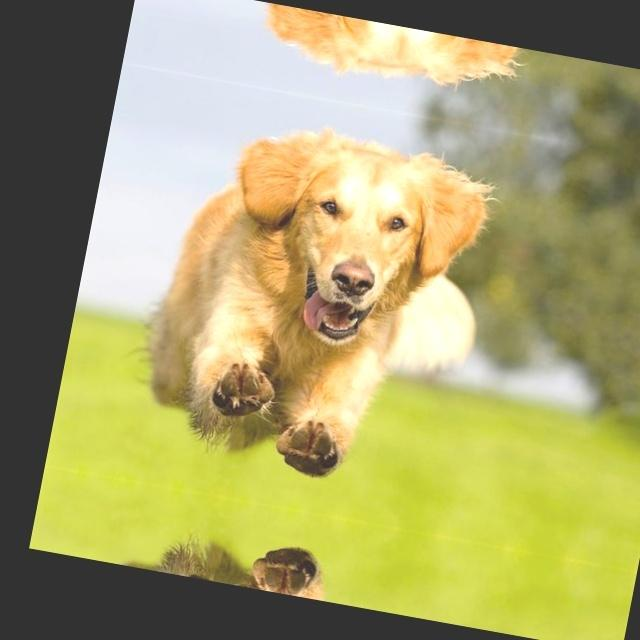dog: (123, 92, 494, 506), (200, 0, 514, 112), (103, 506, 414, 616)
